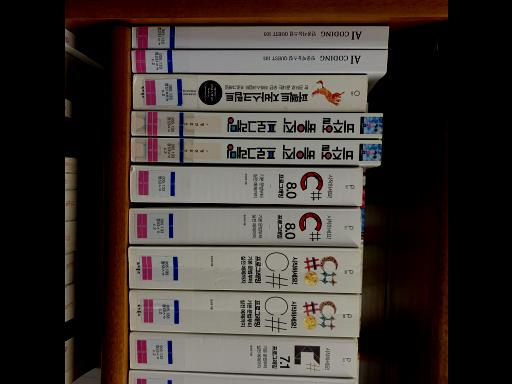book-spine: (128, 289, 360, 336), (127, 248, 361, 294), (128, 333, 357, 378), (129, 166, 361, 205), (132, 74, 367, 112), (128, 209, 360, 247), (130, 111, 382, 138), (130, 139, 381, 164), (130, 50, 387, 73), (131, 27, 388, 49)
